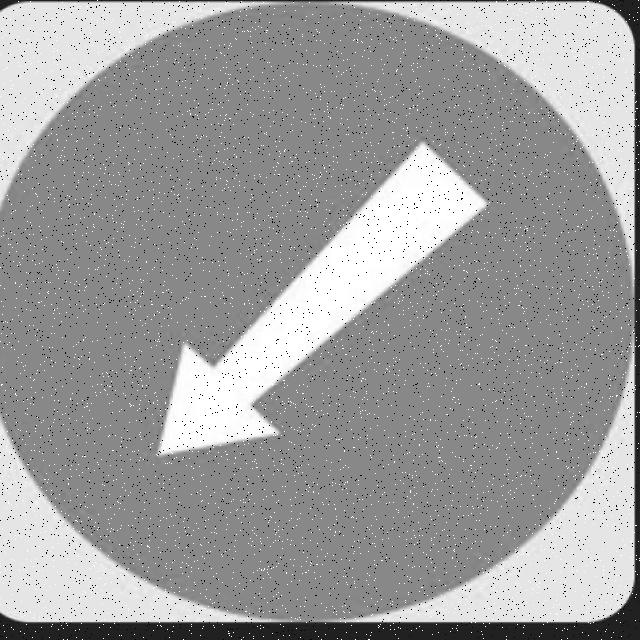compulsory_keep_left: (3, 22, 621, 620)
